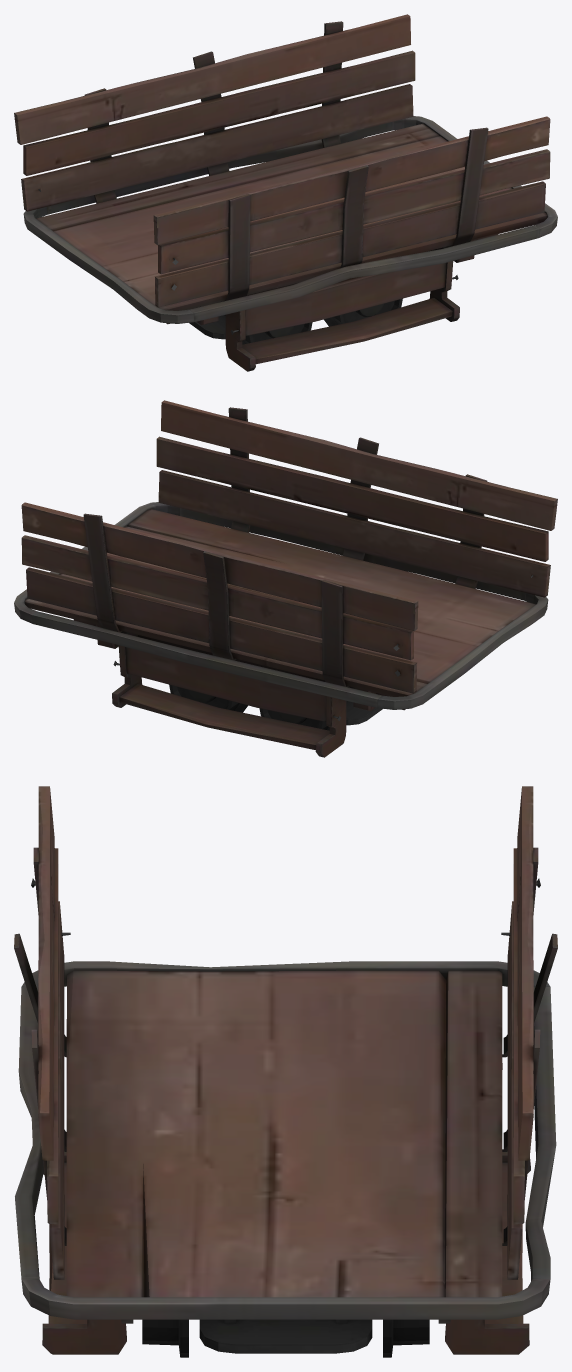
3 views of the same model, one above another, from view 1: azimuth 30°, elevation 25°; view 2: azimuth 150°, elevation 25°; view 3: azimuth 270°, elevation 25° (orthographic). The views are drawn at different scales.
Visible parts, largest first — view 1: body0_model0_lod0_mesh0; view 2: body0_model0_lod0_mesh0; view 3: body0_model0_lod0_mesh0.
Boxes of the visible parts, bbox=[...] form: body0_model0_lod0_mesh0: bbox=[14, 14, 557, 371]; body0_model0_lod0_mesh0: bbox=[14, 400, 557, 757]; body0_model0_lod0_mesh0: bbox=[14, 786, 557, 1357].
Bounding box in the file's own units: 92.53 × 47.36 × 61.67.
1 material, 1 textured.
